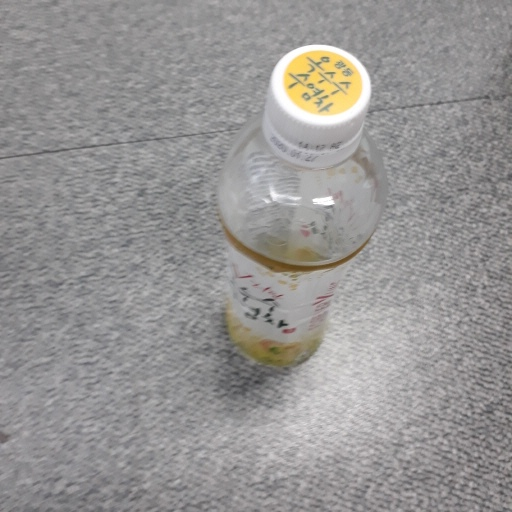Plastic_0: (213, 41, 386, 372)
